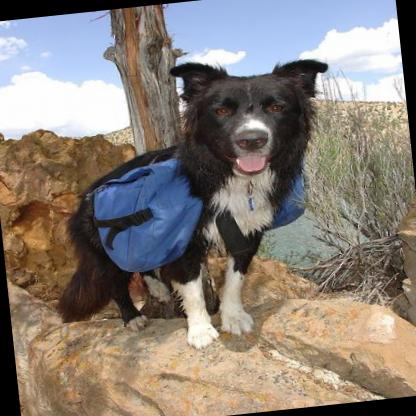Border_collie: (30, 44, 356, 365)
